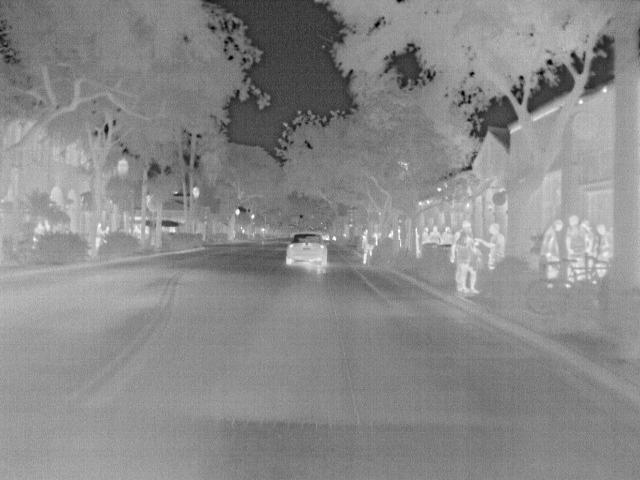car: (282, 234, 330, 268)
person: (451, 228, 481, 292), (476, 223, 507, 271), (561, 214, 592, 257), (543, 221, 563, 259), (595, 224, 614, 264), (361, 229, 378, 268), (94, 220, 106, 248), (429, 225, 442, 243), (33, 220, 46, 236), (420, 226, 432, 243)
